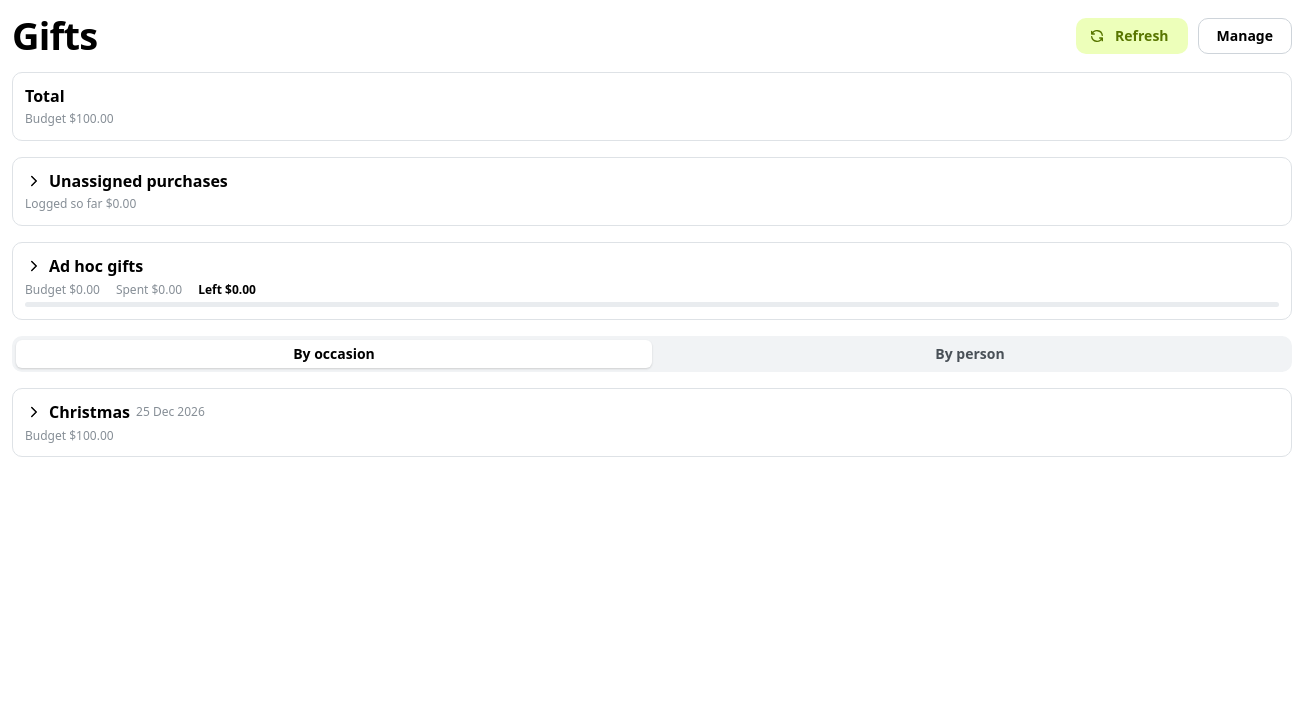
Test case: GiftsScreen private gifts for the current member › hides spend and the purchase log for a gift whose recipient is the current member
Click the button "Christmas 25 Dec 2026 Budget $100.00": (90, 412) [25,401,1279,444]
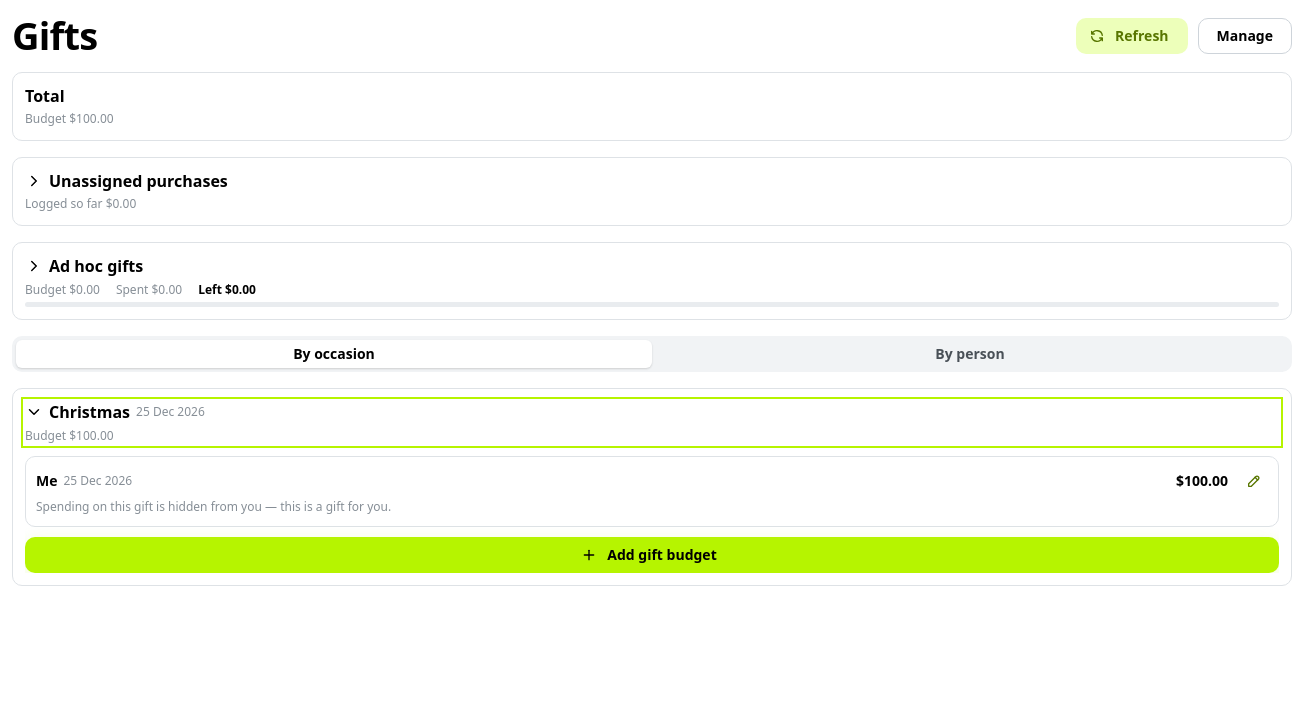
Check: the text "Spending on this gift is hidden from you" is shown, box [36,498,391,515]
